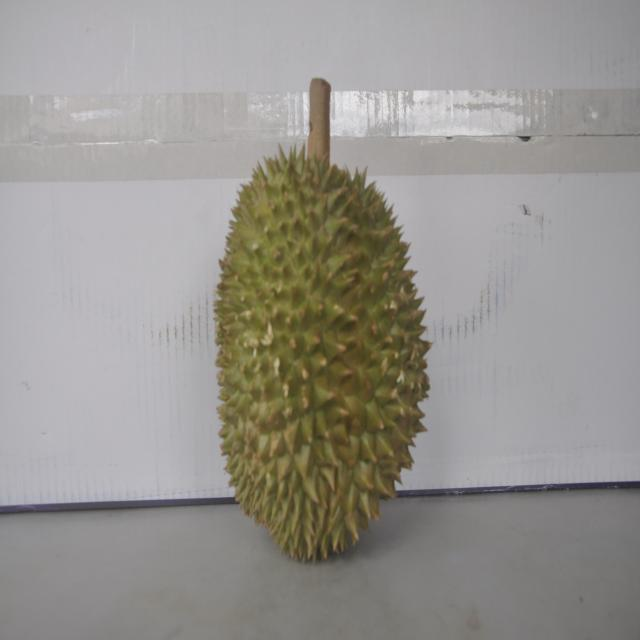mature: (210, 138, 430, 563)
